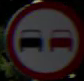No overtake: (9, 3, 74, 69)
